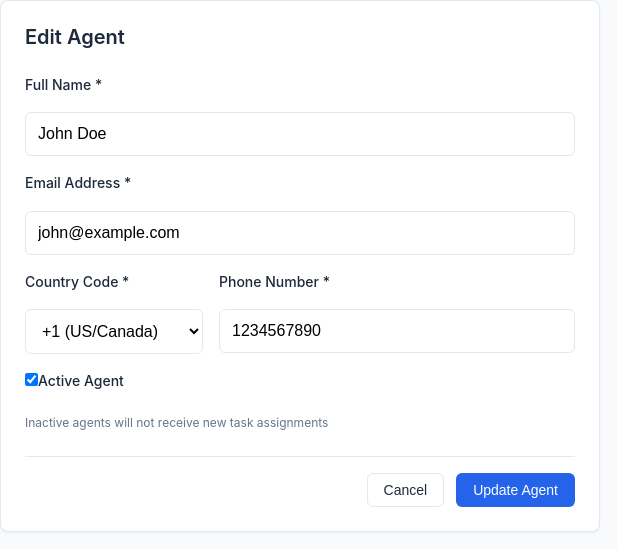
Test: EditAgent › shows loading state during submission
The image size is (617, 549).
Click the button "Update Agent": [516, 490] box [456,473,575,507]
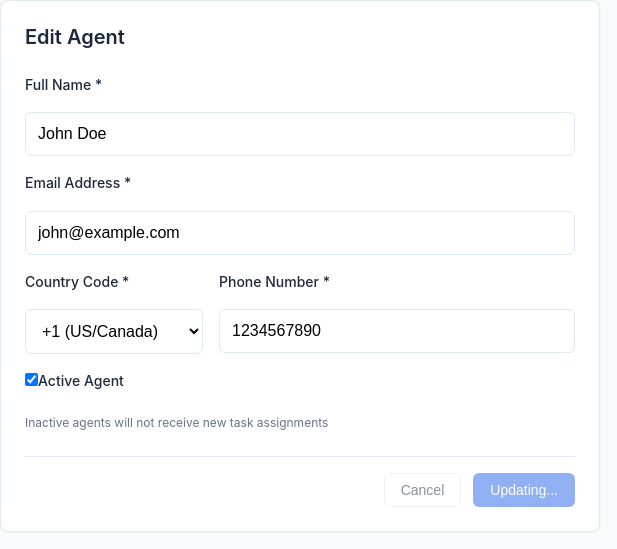
expect the button "Updating..." is disabled: met, box [473,473,575,507]
expect the button "Cancel" is disabled: met, box [384,473,461,507]
